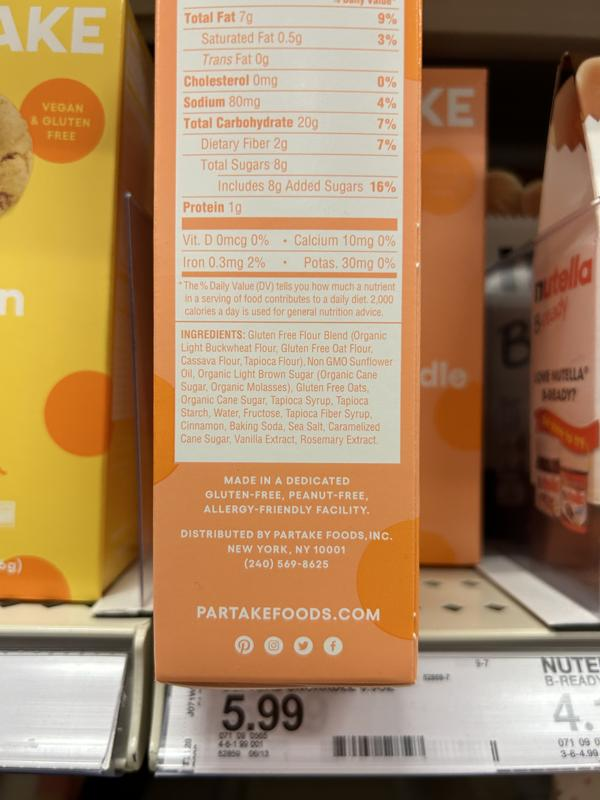ingredients: (177, 327, 395, 447)
